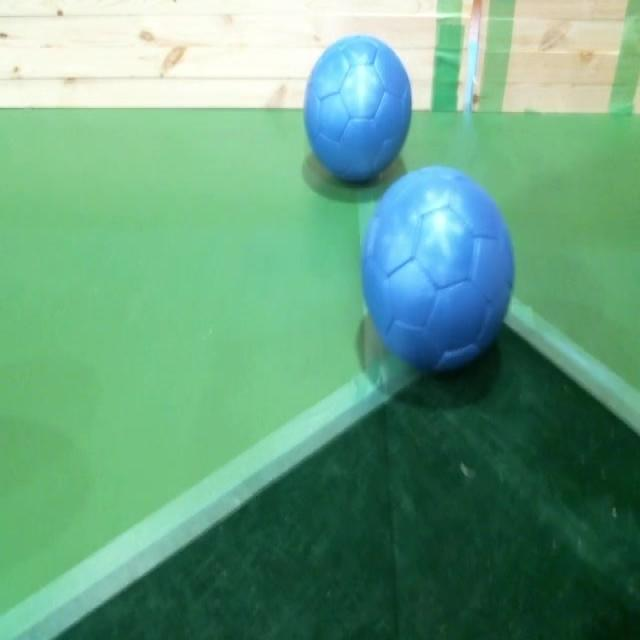blue_ball: (362, 169, 514, 377), (304, 36, 414, 186)
